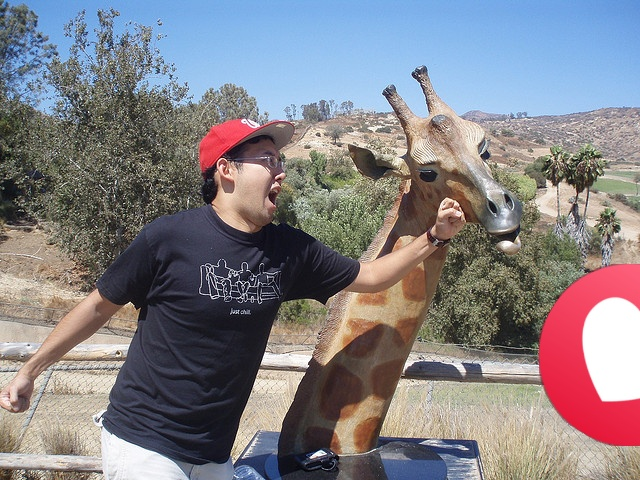love: (539, 264, 640, 446)
